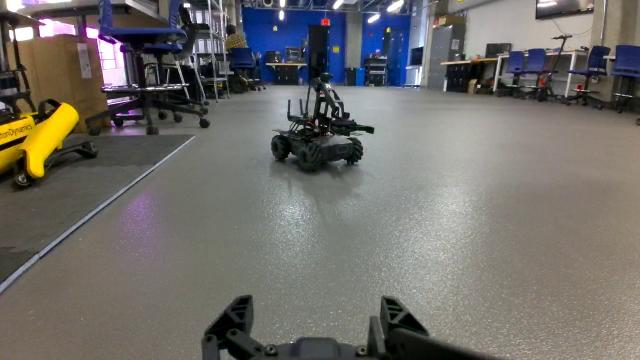robot: (266, 71, 378, 176)
